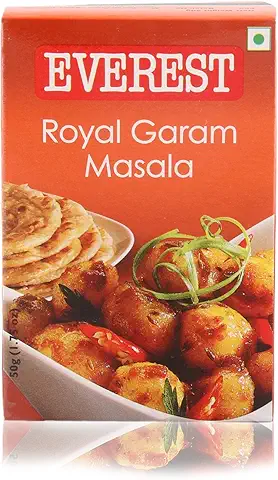Garamasala: (2, 7, 270, 423)
